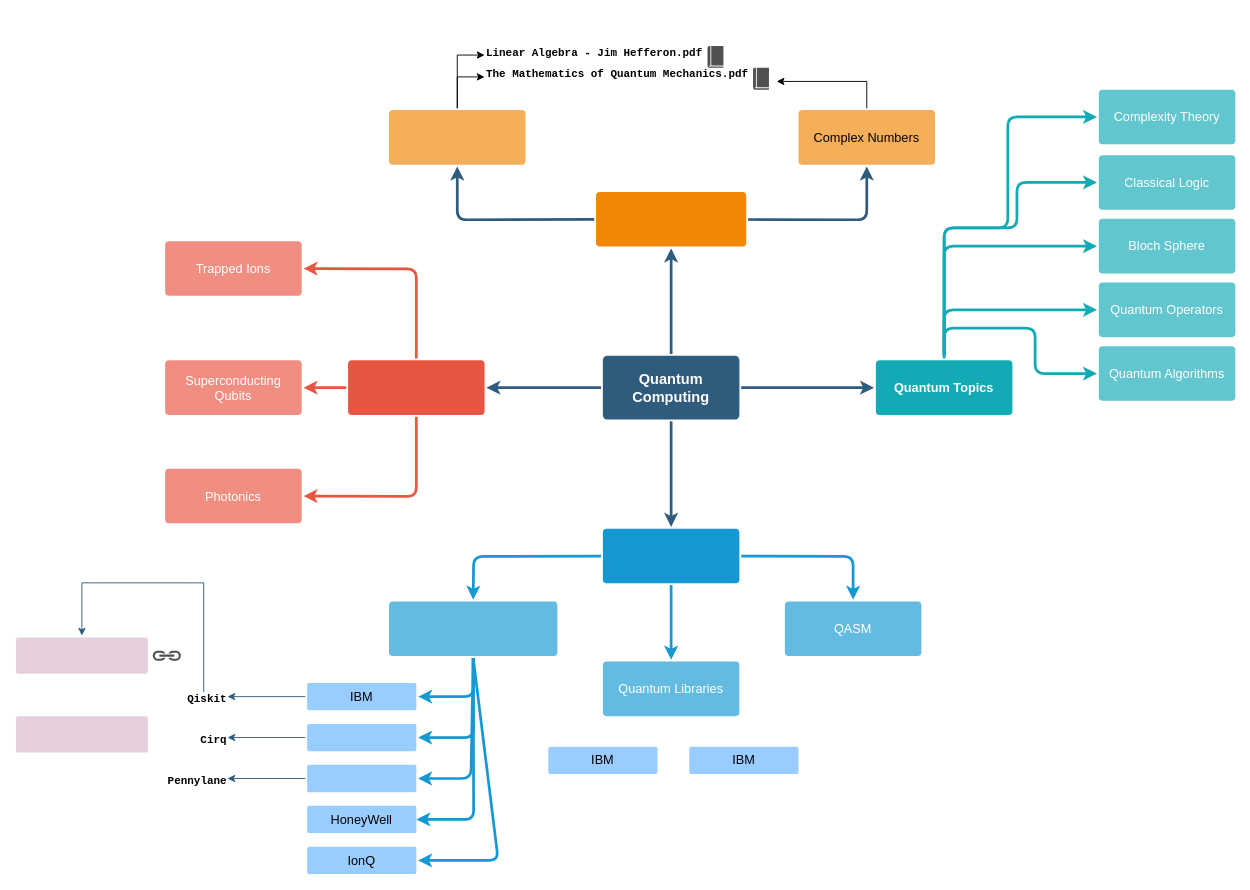
This 1250x890 diagram has some shape labels left out. The shapes that lost their labels are listed below. From the top down, each one's box as (x1, y1, x2, y2) in pixels, then its label:
(389, 110, 525, 164): Linear Algebra
(596, 192, 746, 246): Fundamental Topics
(348, 360, 484, 415): Quantum Concepts
(602, 528, 739, 583): Ecosystem
(389, 601, 557, 656): Quantum Manufacturers
(15, 637, 147, 673): Qiskit Textbook
(15, 716, 147, 752): Cirq Documentation
(307, 723, 416, 751): Google
(307, 764, 416, 792): Xanadu
